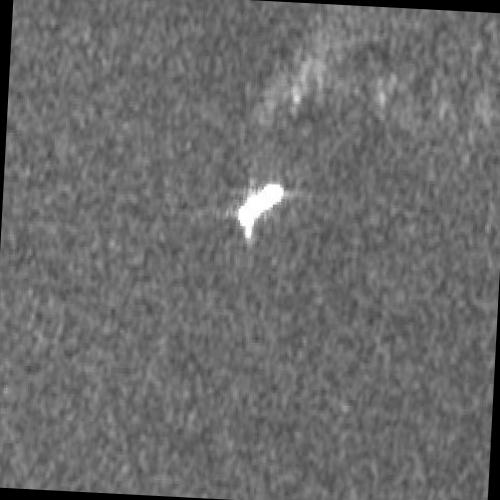ship: (236, 181, 284, 240)
